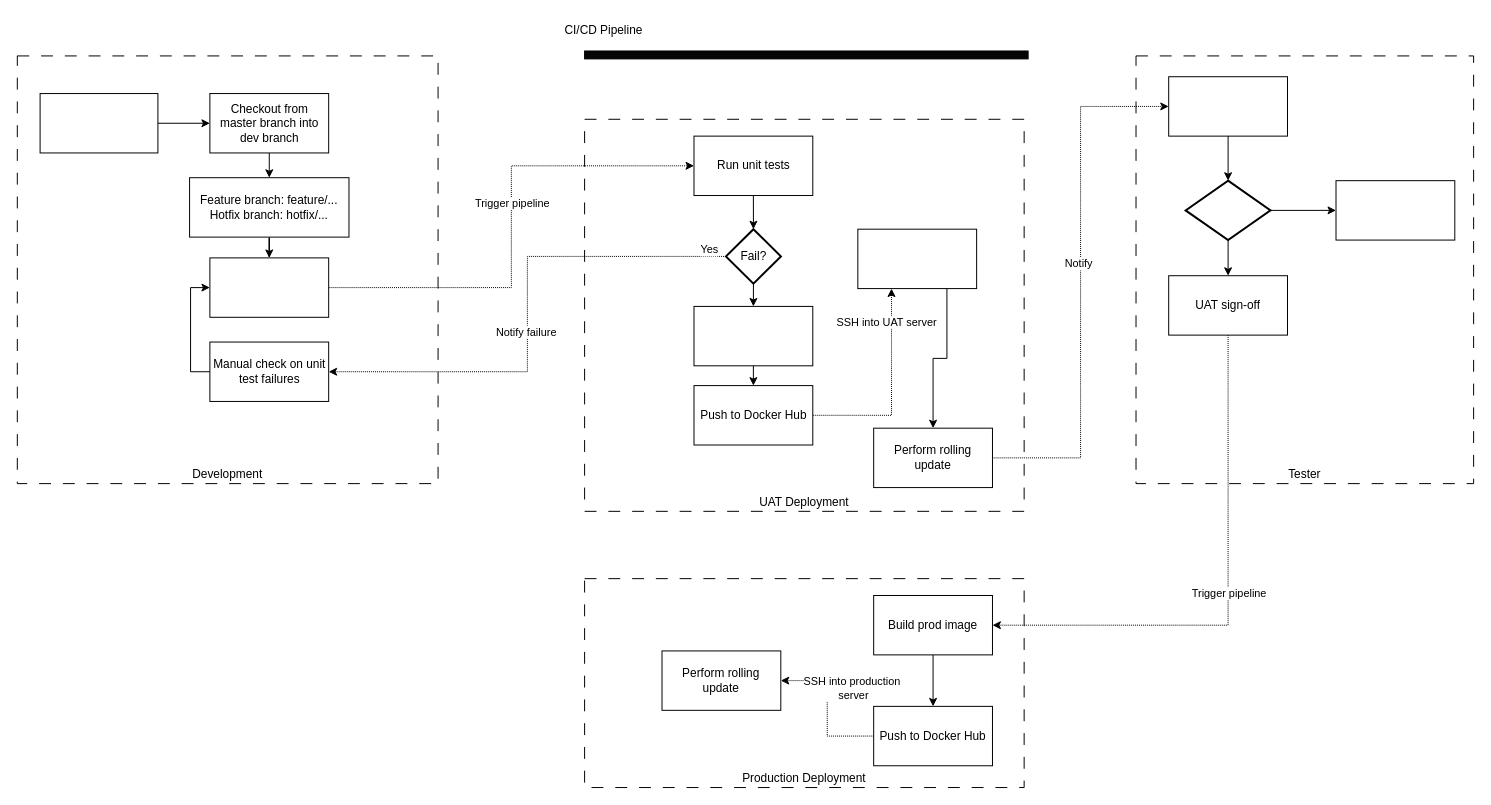
Image size: 1491x805. Some labels were removed from this diagram. Each missing label, with the centre of its shape:
Build UAT image tagged with commit digest: point (753, 335)
Create issue: point (1395, 210)
Discover issue?: point (1227, 210)
Log deployment version: point (917, 258)
New issue (Feature/Hotfix): point (98, 123)
Perform testing: point (1227, 106)
Raise PR to UAT branch after commit to dev branch: point (269, 287)
